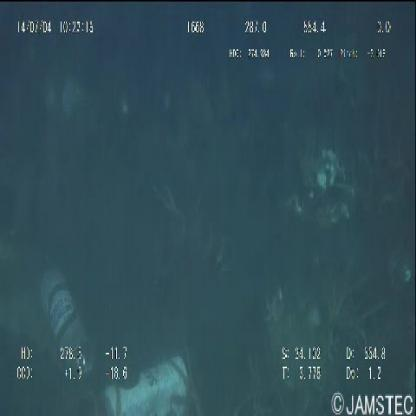Rác: (104, 355, 192, 415)
